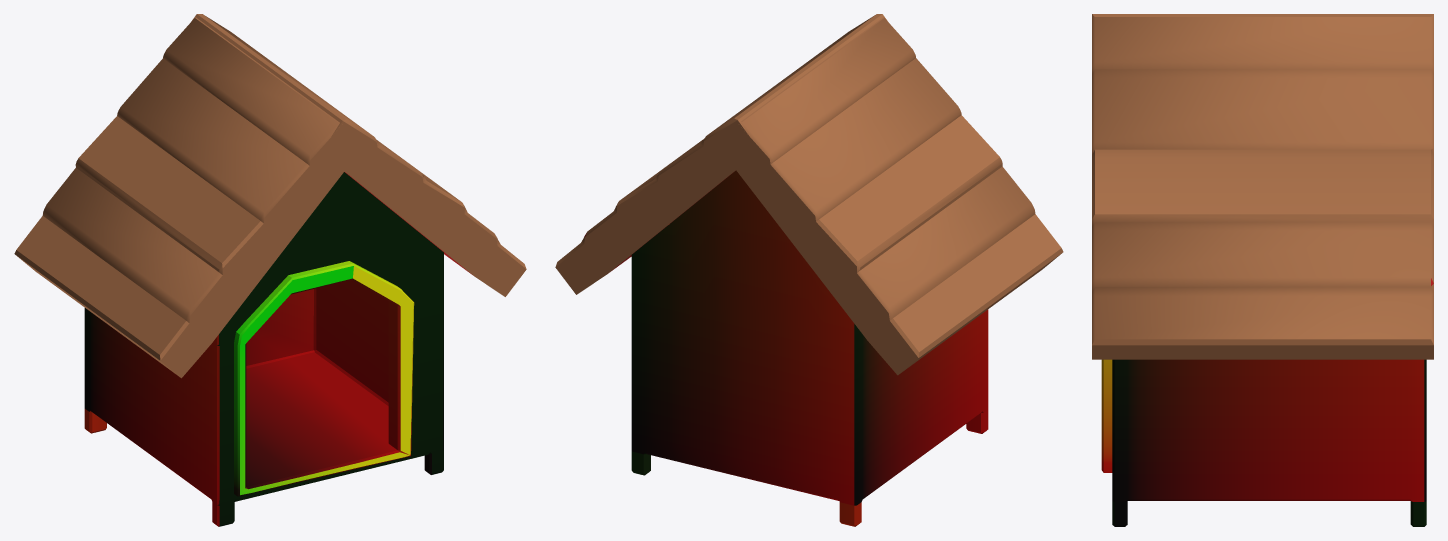
File: Doghouse.FBX
3 views of the same model, side by side, from view 1: azimuth 30°, elevation 25°; view 2: azimuth 150°, elevation 25°; view 3: azimuth 270°, elevation 25° (orthographic). The views are drawn at different scales.
Visible parts, largest first — view 1: Doghouse_low; view 2: Doghouse_low; view 3: Doghouse_low.
Boxes of the visible parts, bbox=[...] form: Doghouse_low: bbox=[14, 14, 526, 526]; Doghouse_low: bbox=[555, 14, 1063, 526]; Doghouse_low: bbox=[1092, 14, 1433, 526].
Size of the model in its own units: 0.3805 by 0.3825 by 0.263.
